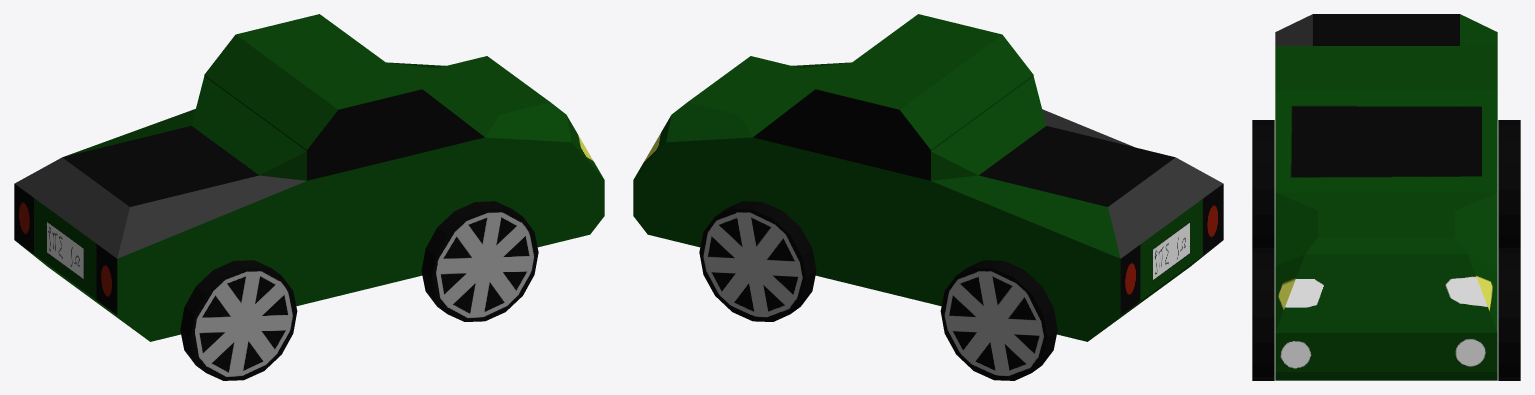
The model's file is car2_green.gltf.
3 views of the same model, side by side, from view 1: azimuth 30°, elevation 25°; view 2: azimuth 150°, elevation 25°; view 3: azimuth 270°, elevation 25° (orthographic). The views are drawn at different scales.
Parts seen in each view (by area): view 1: car, tireBR, tireFR; view 2: car, tireBL, tireFL; view 3: car, tireFL, tireFR, tireBL, tireBR.
Part boxes in pixels (<box>): car: <box>14,14,604,341</box>; tireBR: <box>180,260,297,380</box>; tireFR: <box>421,201,538,321</box>; car: <box>633,14,1223,341</box>; tireBL: <box>940,260,1057,380</box>; tireFL: <box>699,201,816,321</box>; car: <box>1275,14,1497,380</box>; tireFL: <box>1498,247,1520,380</box>; tireFR: <box>1252,247,1274,380</box>; tireBL: <box>1498,120,1520,247</box>; tireBR: <box>1252,120,1274,247</box>.
Size of the model in its own units: 5.47 by 2.55 by 2.41.
5 materials, 5 textured.
